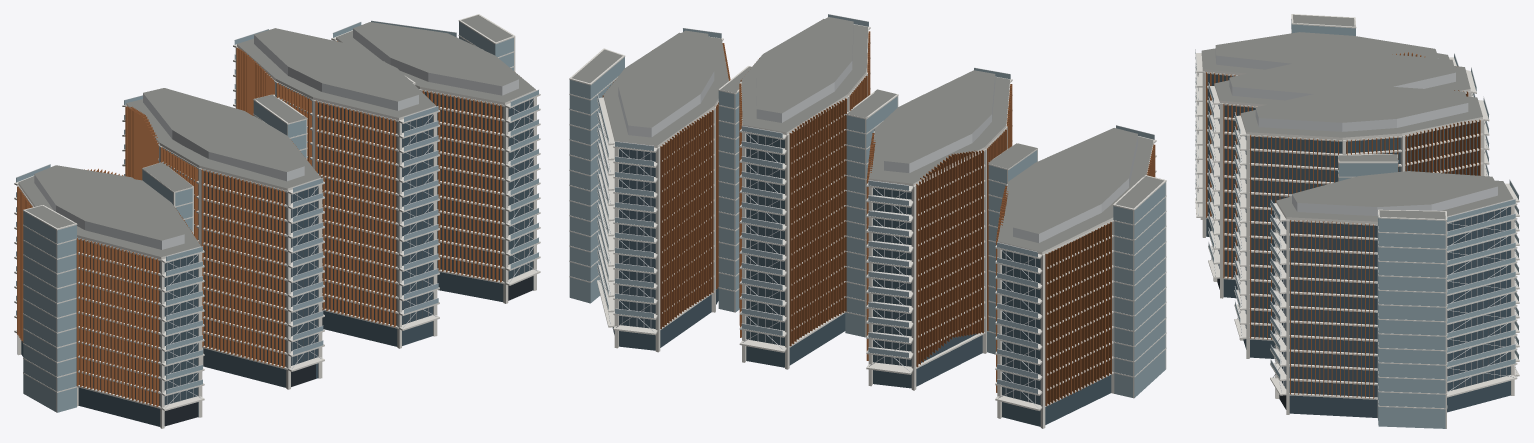
The model's file is one_hyde_park.glb.
The picture shows the model from 3 angles, left to right: view 1: azimuth 30°, elevation 25°; view 2: azimuth 150°, elevation 25°; view 3: azimuth 270°, elevation 25°; orthographic projection. The views are drawn at different scales.
Size of the model in its own units: 125 by 60.53 by 70.98.
